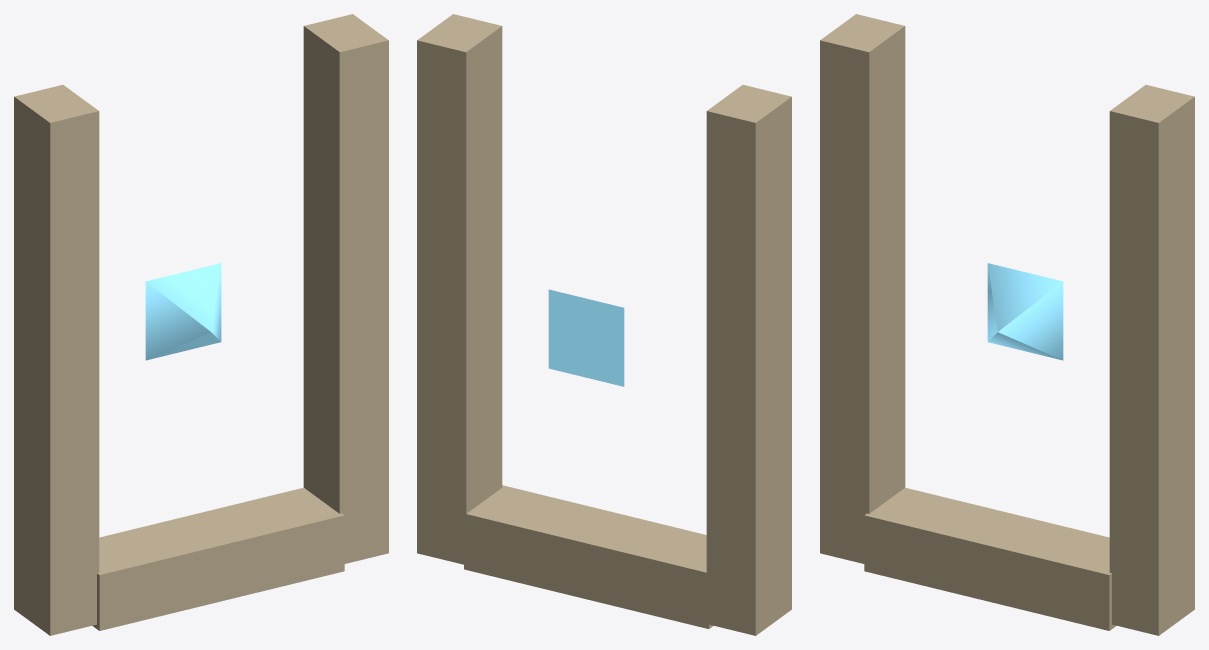
The model's file is louvre.glb.
3 views of the same model, side by side, from view 1: azimuth 30°, elevation 25°; view 2: azimuth 150°, elevation 25°; view 3: azimuth 330°, elevation 25° (orthographic).
Parts seen in each view (by area): view 1: Musée du Louvre; view 2: Musée du Louvre; view 3: Musée du Louvre.
Part boxes in pixels (<box>): Musée du Louvre: <box>14,14,388,635</box>; Musée du Louvre: <box>417,14,791,635</box>; Musée du Louvre: <box>820,14,1194,635</box>.
Size of the model in its own units: 152 by 222 by 30.
